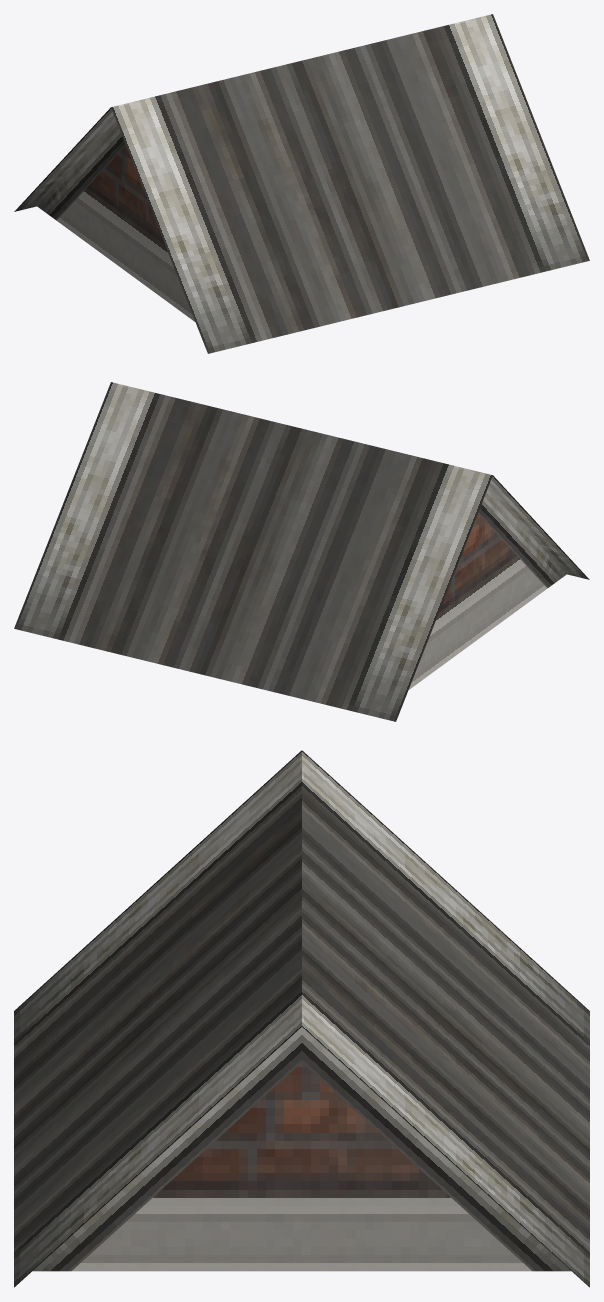
Rendered from wallA_roofDetailed.glb.
3 renders of one model, top to bottom at view 1: azimuth 30°, elevation 25°; view 2: azimuth 150°, elevation 25°; view 3: azimuth 270°, elevation 25°, orthographic. The views are drawn at different scales.
Visible parts, largest first — view 1: wallA_roofDetailed; view 2: wallA_roofDetailed; view 3: wallA_roofDetailed.
Part boxes in pixels (<box>): wallA_roofDetailed: <box>14,14,589,353</box>; wallA_roofDetailed: <box>14,382,589,721</box>; wallA_roofDetailed: <box>14,750,589,1287</box>.
Bounding box in the file's own units: 1.14 × 0.5 × 1.
3 materials, 3 textured.
